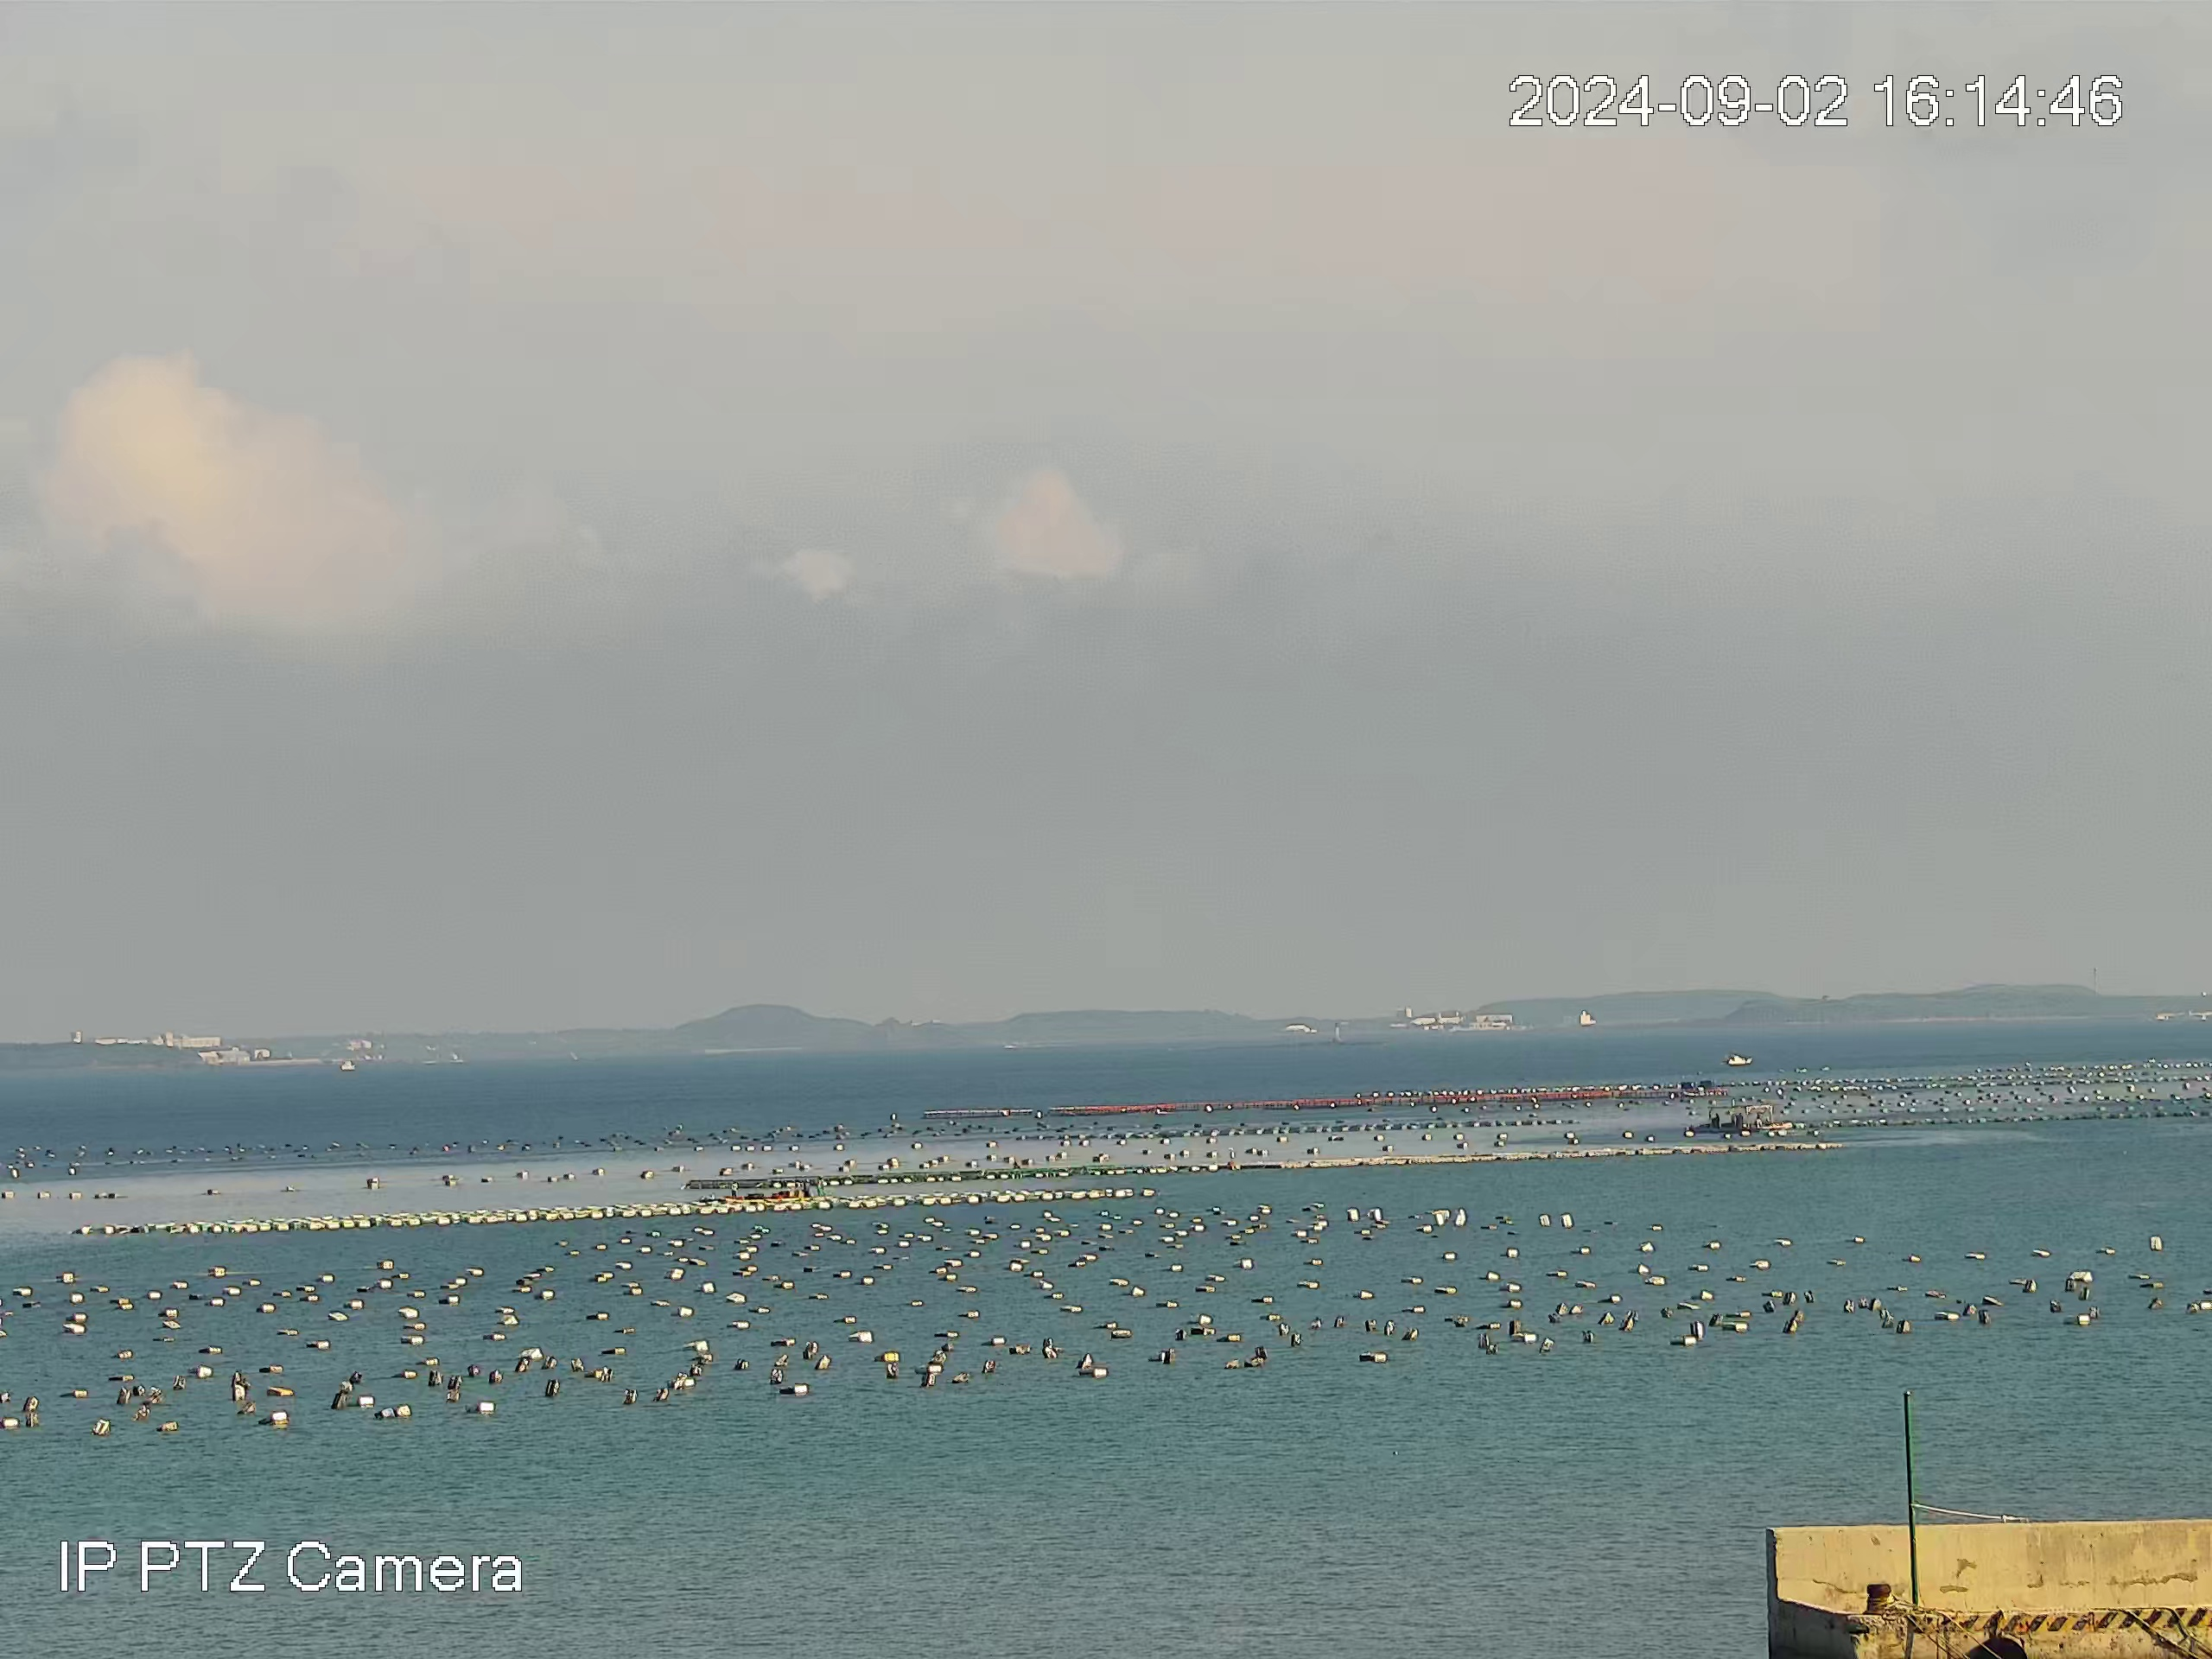boat: (1684, 1103, 1792, 1133), (725, 1180, 813, 1202), (1724, 1053, 1754, 1066)
